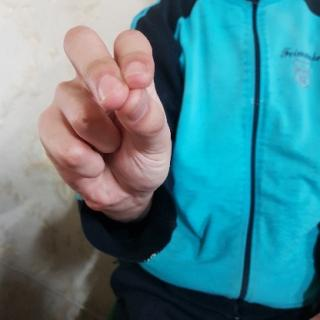QAAF: (30, 17, 177, 217)
